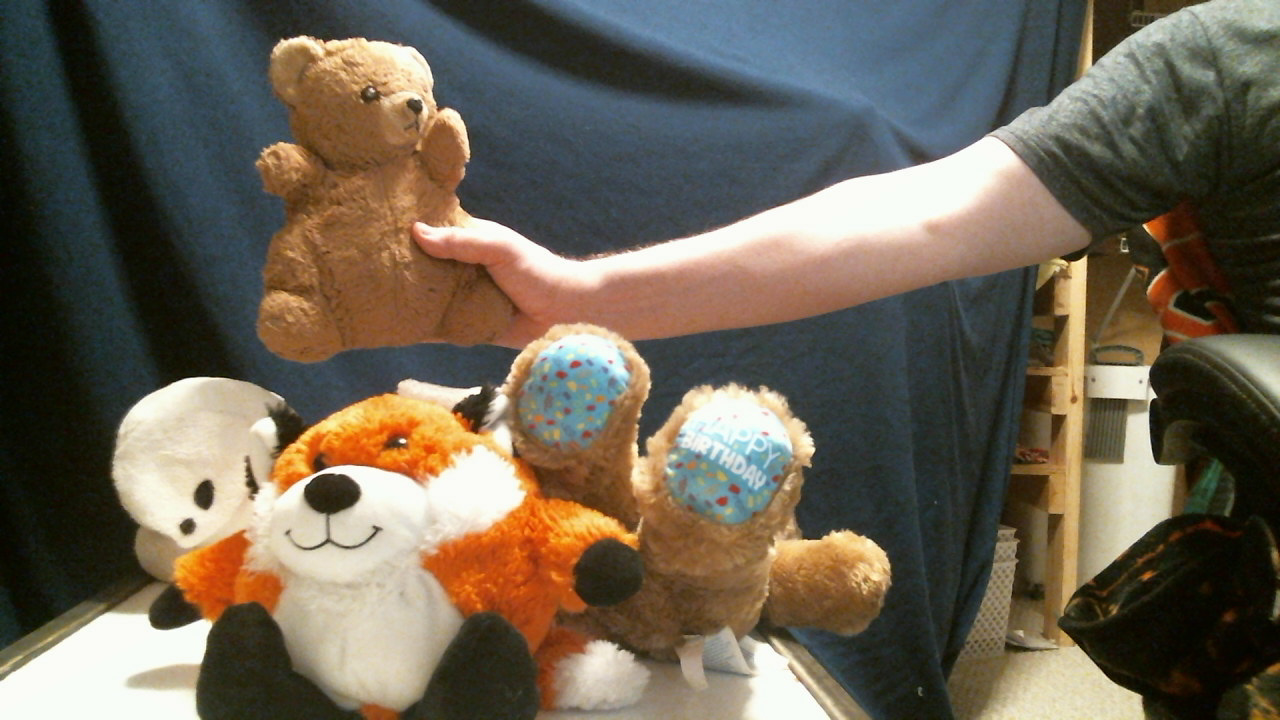Little_Mister_Bear: (336, 63, 436, 166)
